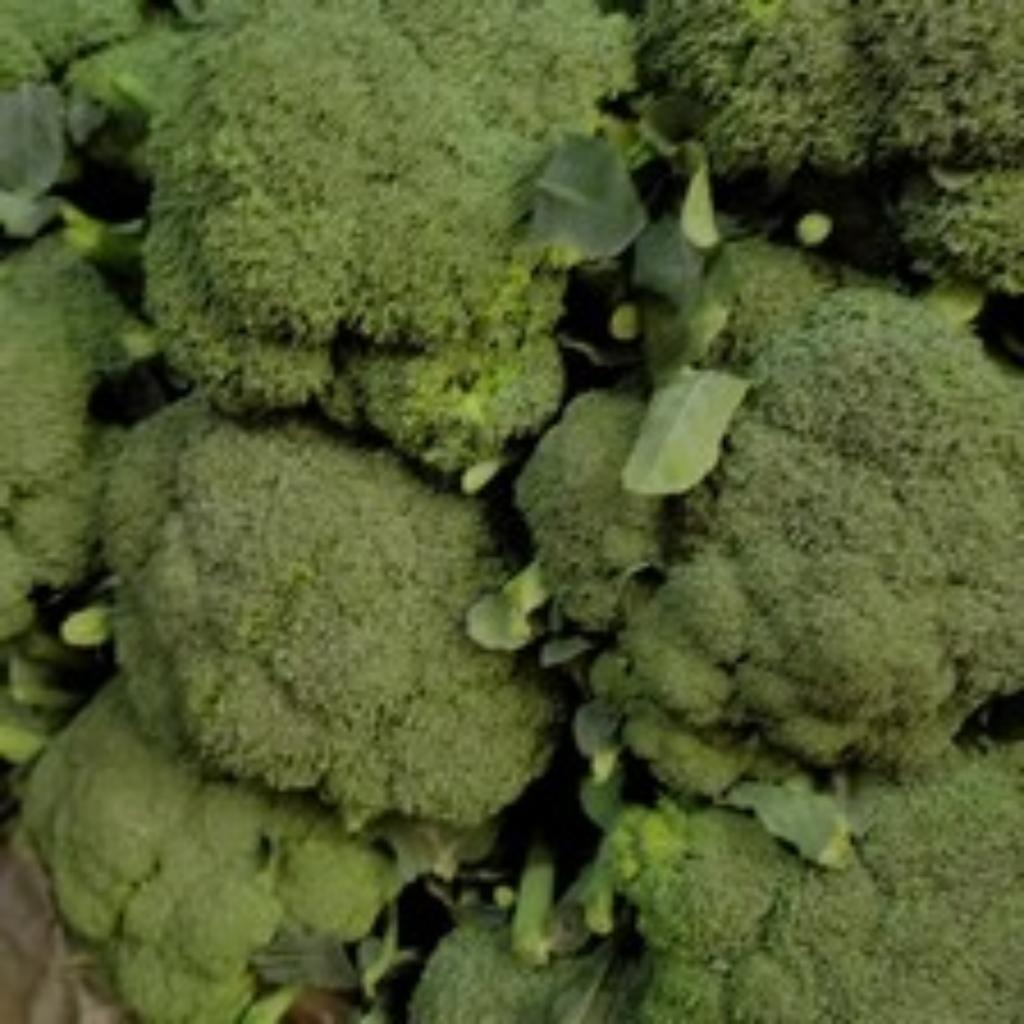Broccoli: (518, 240, 1024, 797), (516, 242, 1024, 795), (150, 0, 628, 473), (148, 0, 628, 471), (106, 400, 552, 827), (108, 400, 546, 827), (24, 680, 398, 1024), (24, 682, 396, 1024), (610, 742, 1024, 1024), (610, 746, 1024, 1024)
